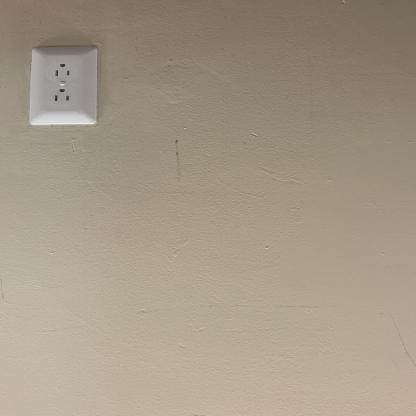OUTLET: (26, 43, 100, 127)
